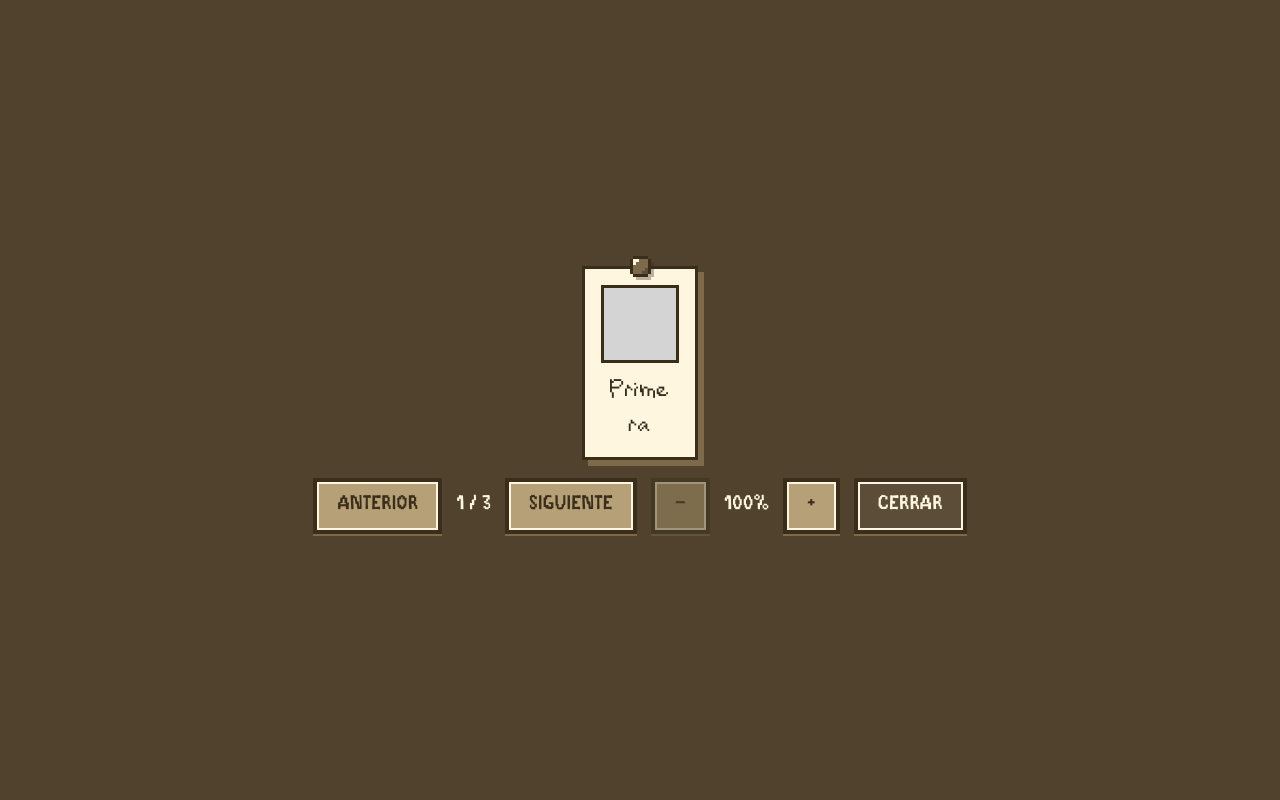
Test: zooms in and out in steps, up to 400%
Click the button named "Acercar" at (811, 506), box top-left (783, 478), bottom-right (840, 534)
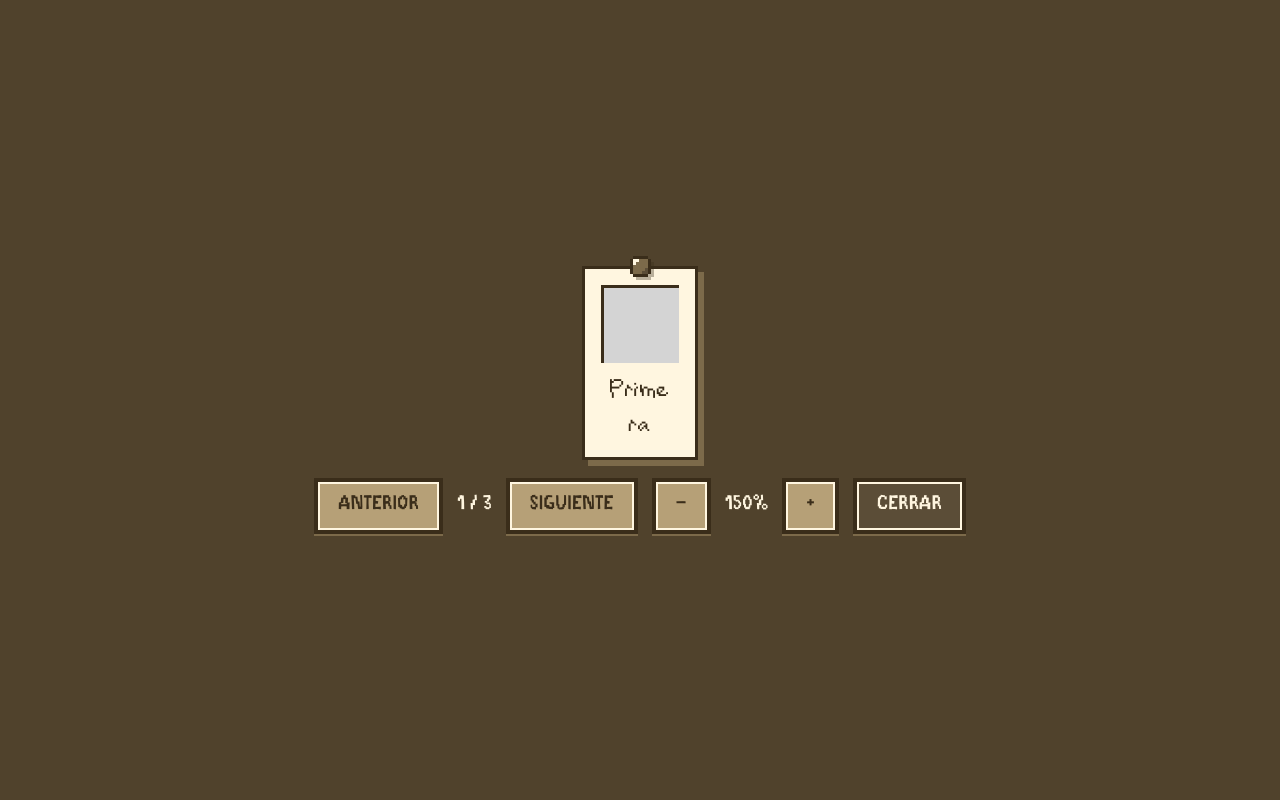
Result: the text "150%" is shown at top-left (725, 491), bottom-right (768, 521)
Click the button named "Acercar" at (811, 506), box top-left (782, 478), bottom-right (839, 534)
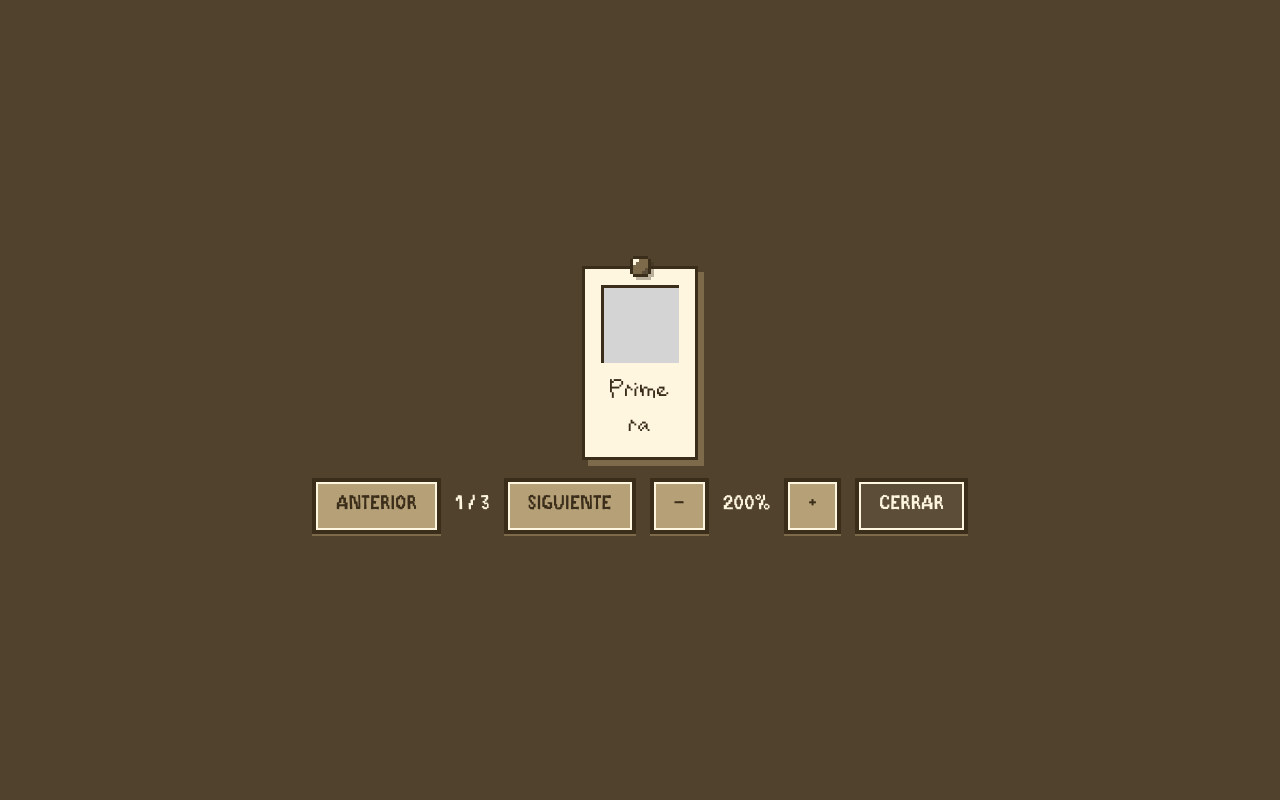
Click the button named "Acercar" at (813, 506), box top-left (784, 478), bottom-right (841, 534)
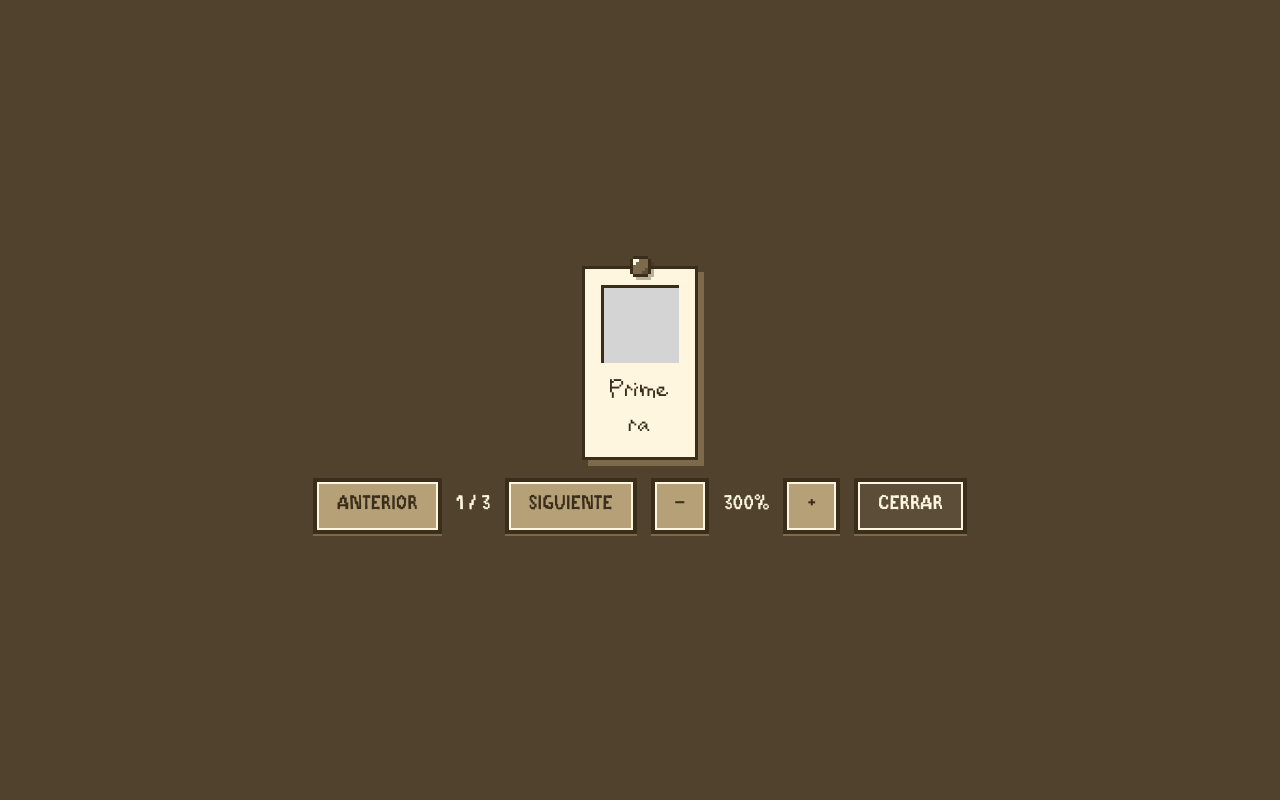
Click the button named "Acercar" at (812, 506), box top-left (784, 478), bottom-right (840, 534)
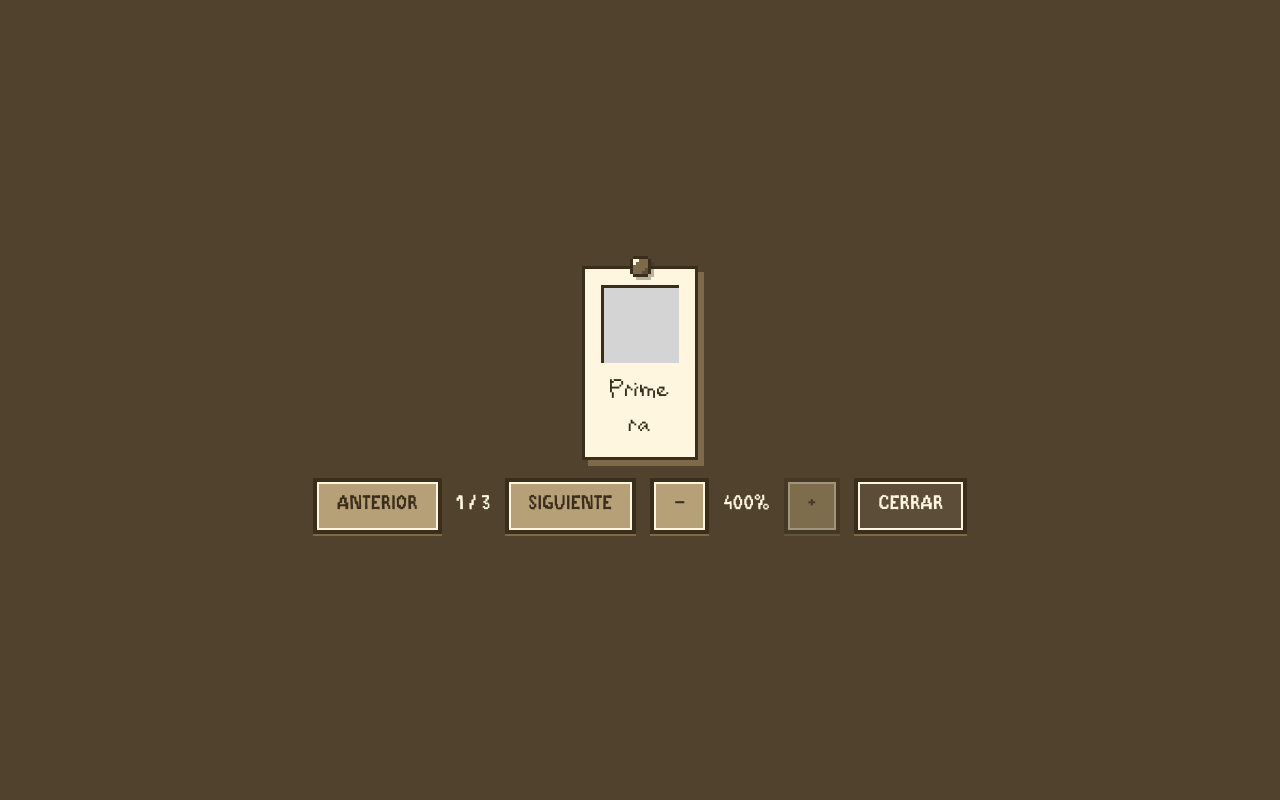
Result: the text "400%" is shown at top-left (723, 491), bottom-right (770, 521)
Result: the button named "Acercar" is disabled at top-left (784, 478), bottom-right (840, 534)
Click the button named "Alejar" at (680, 506), box top-left (650, 478), bottom-right (709, 534)
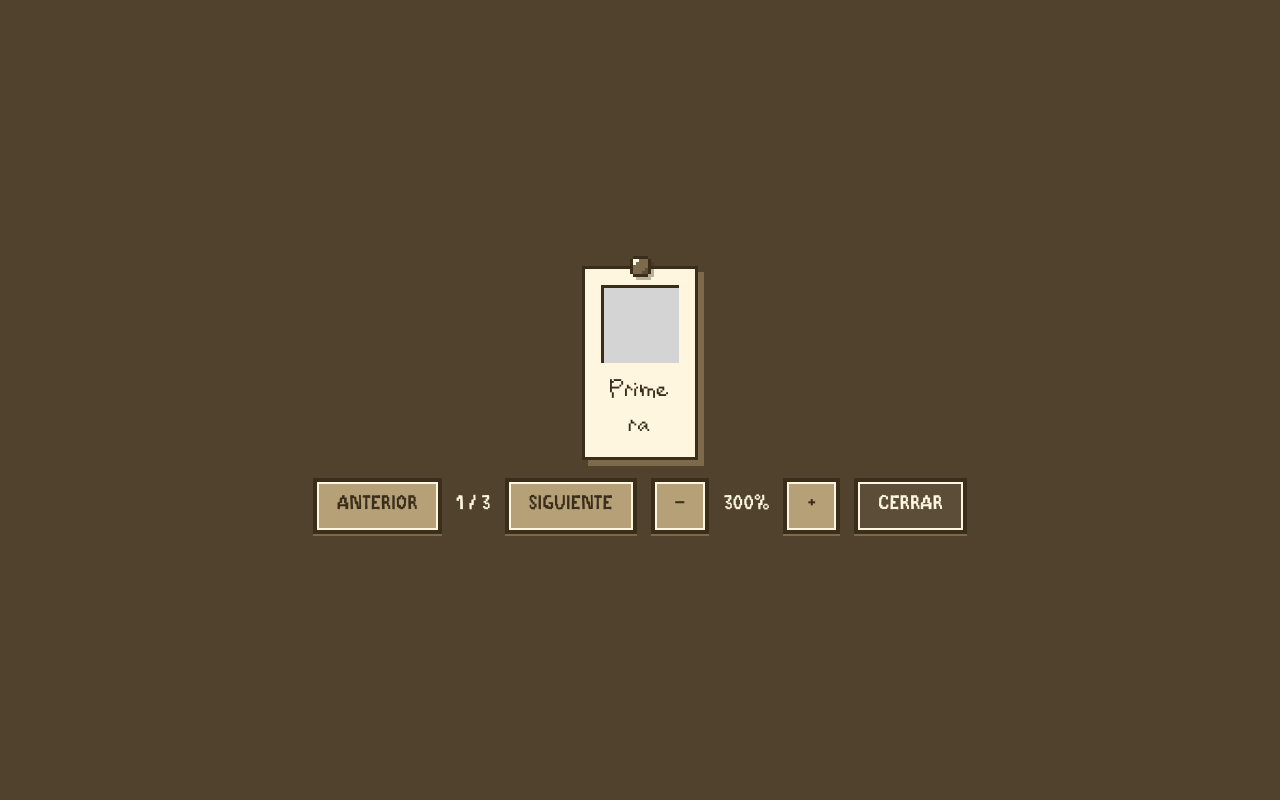
Result: the text "300%" is shown at top-left (723, 491), bottom-right (769, 521)
